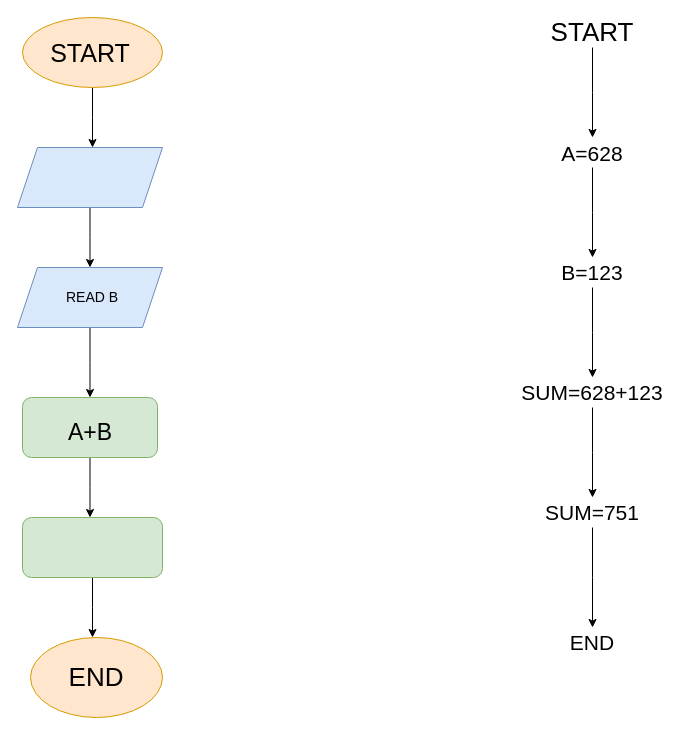
This 680x735 diagram has some shape labels left out. The centre of each missing label's shape, as x and y in pixels:
"PRINT SUM" goes at point (92, 547).
"READ A" goes at point (89, 177).
